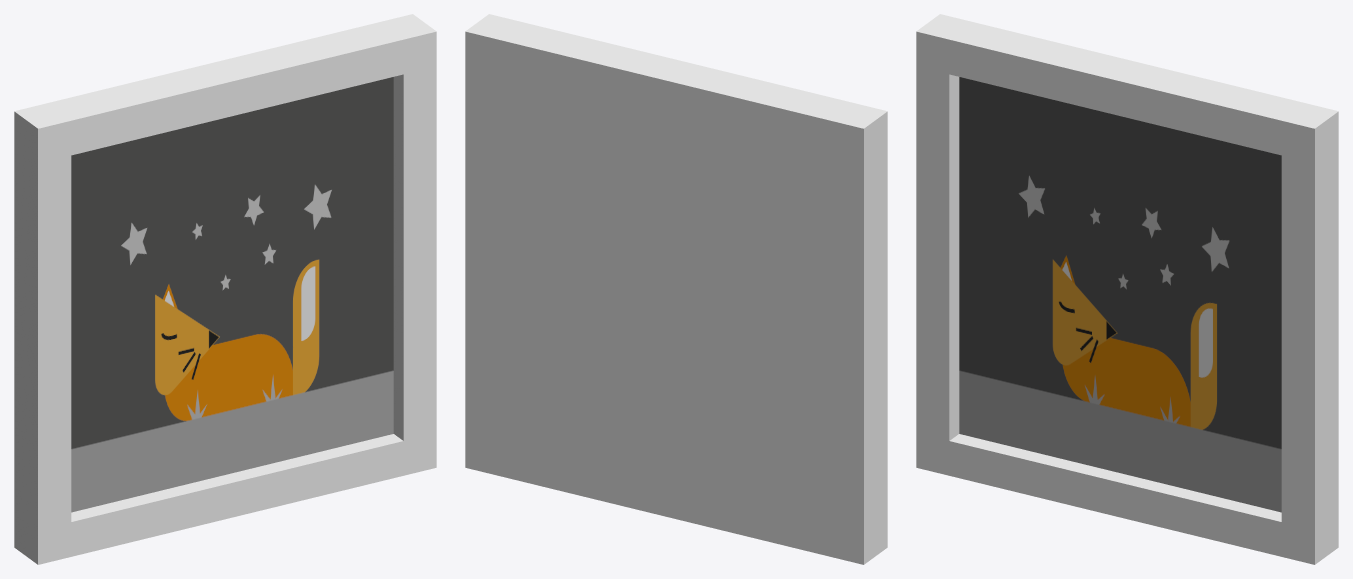
The model's file is Picture 1.fbx.
3 renders of one model, left to right at view 1: azimuth 30°, elevation 25°; view 2: azimuth 150°, elevation 25°; view 3: azimuth 330°, elevation 25°, orthographic.
Visible parts, largest first — view 1: Picture 1; view 2: Picture 1; view 3: Picture 1.
Part boxes in pixels (box(x1,y1,x2,y2)): Picture 1: box(14, 14, 436, 564); Picture 1: box(465, 14, 887, 564); Picture 1: box(916, 14, 1338, 564).
Size of the model in its own units: 33.55 by 35.07 by 3.49.
1 material, 1 textured.
